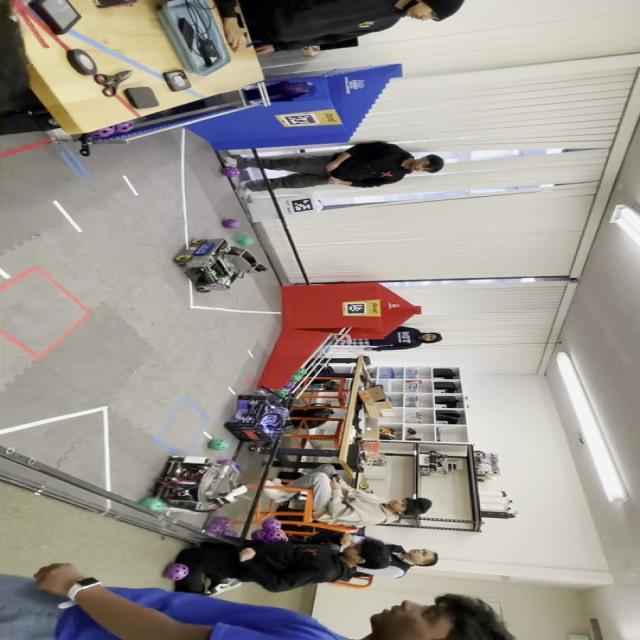artifact_green: (140, 498, 165, 511), (208, 439, 228, 450), (291, 370, 305, 382), (358, 482, 368, 490)
artifact_purple: (163, 564, 189, 581), (92, 126, 116, 138), (265, 530, 287, 543), (234, 232, 254, 245), (262, 518, 280, 531), (210, 516, 231, 527), (206, 524, 226, 535), (115, 121, 133, 133), (222, 218, 240, 229), (221, 167, 239, 178), (252, 530, 266, 541), (217, 460, 237, 467), (223, 530, 239, 537), (284, 381, 297, 389)
